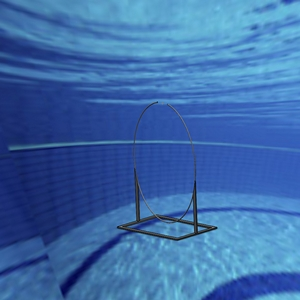circle: (114, 100, 219, 241)
